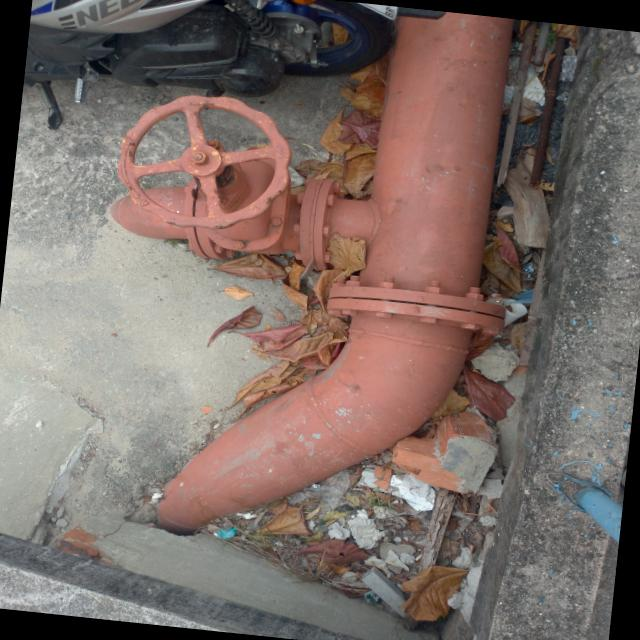gas: (196, 7, 511, 527), (147, 176, 373, 261)
